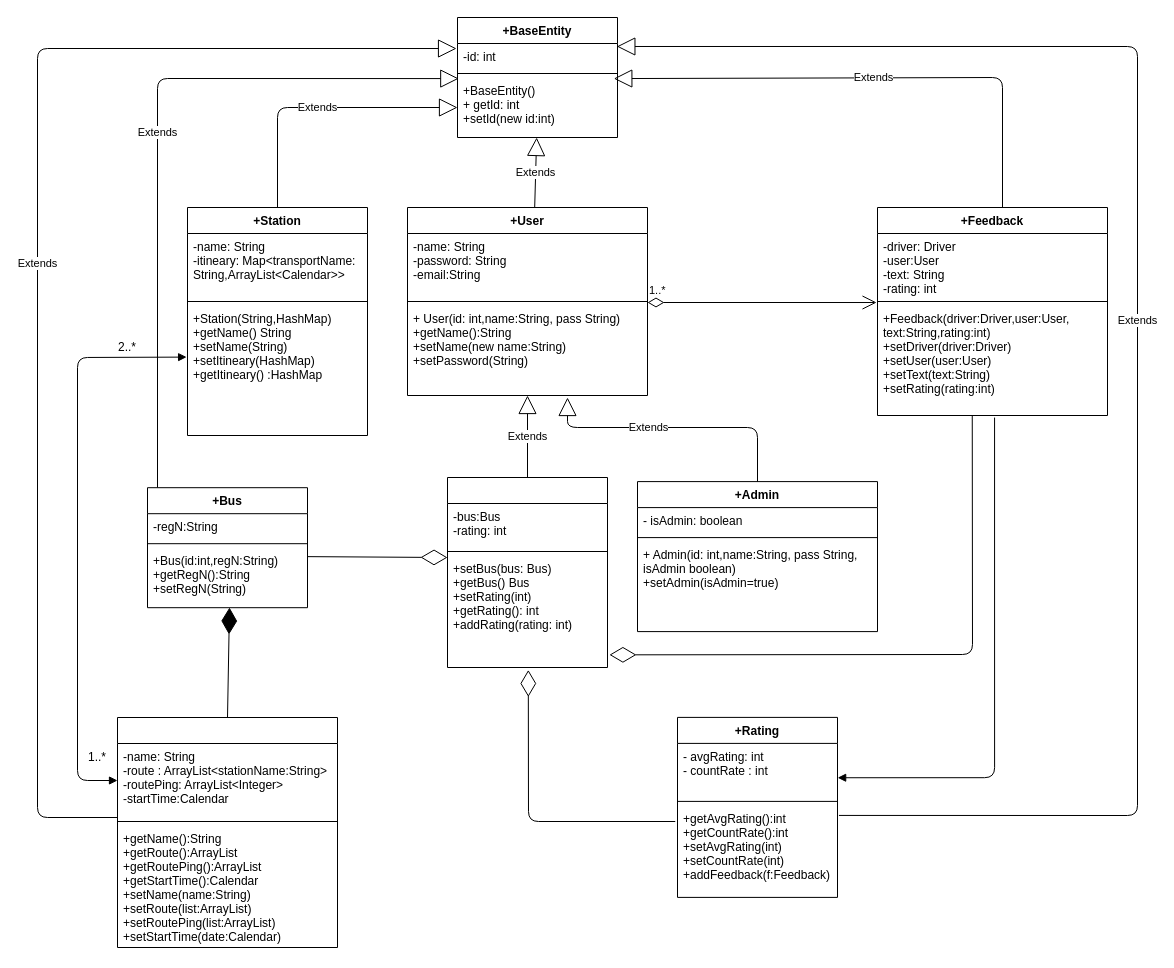
Image size: 1174x968. Some labels were removed from this diagram. The box of each missing label's shape, as (x1, y1, x2, y2) in pixels:
+Driver: (446, 476, 608, 668)
+Transport: (116, 716, 338, 948)
